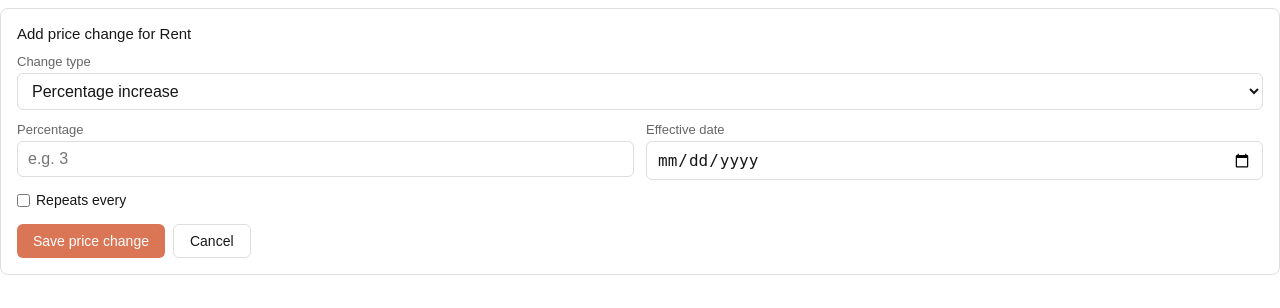
Test: EscalationForm › shows interval input when recurring is toggled on
Note: Toggle recurring on
Click the checkbox with test id "recurring-toggle": (24, 200) top-left (17, 194), bottom-right (30, 206)
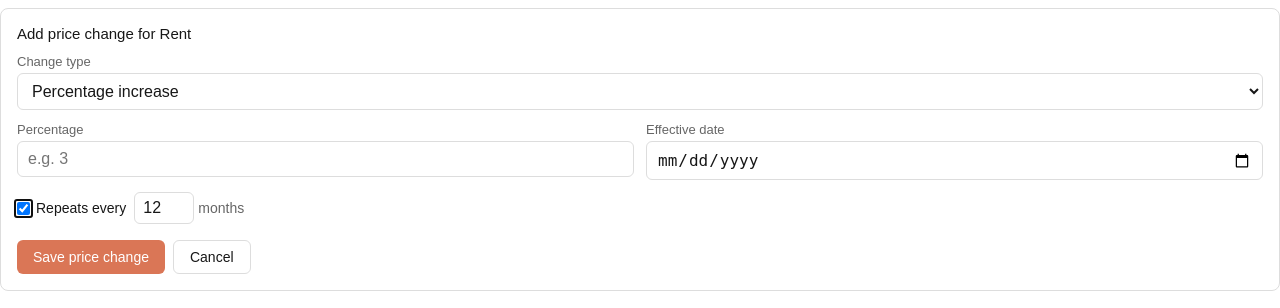
Now the number field named "Interval months" is shown, box top-left (134, 192), bottom-right (194, 224)
Now the text "months" is shown, box top-left (198, 200), bottom-right (244, 216)
